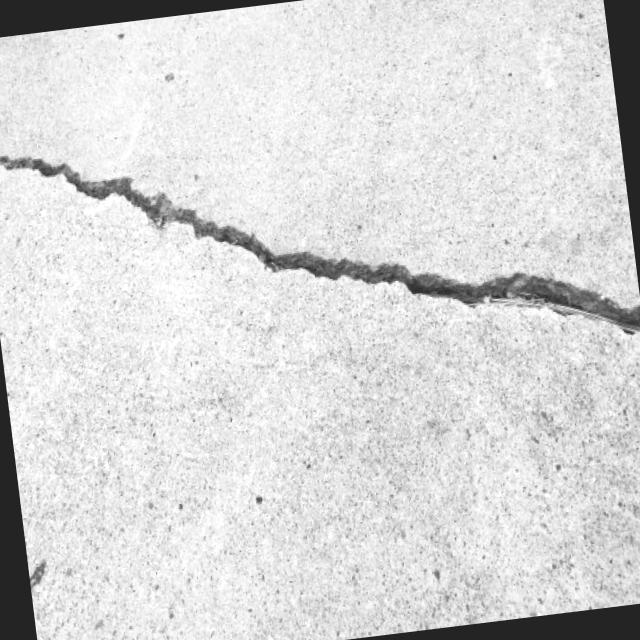crack: (0, 69, 640, 415)
